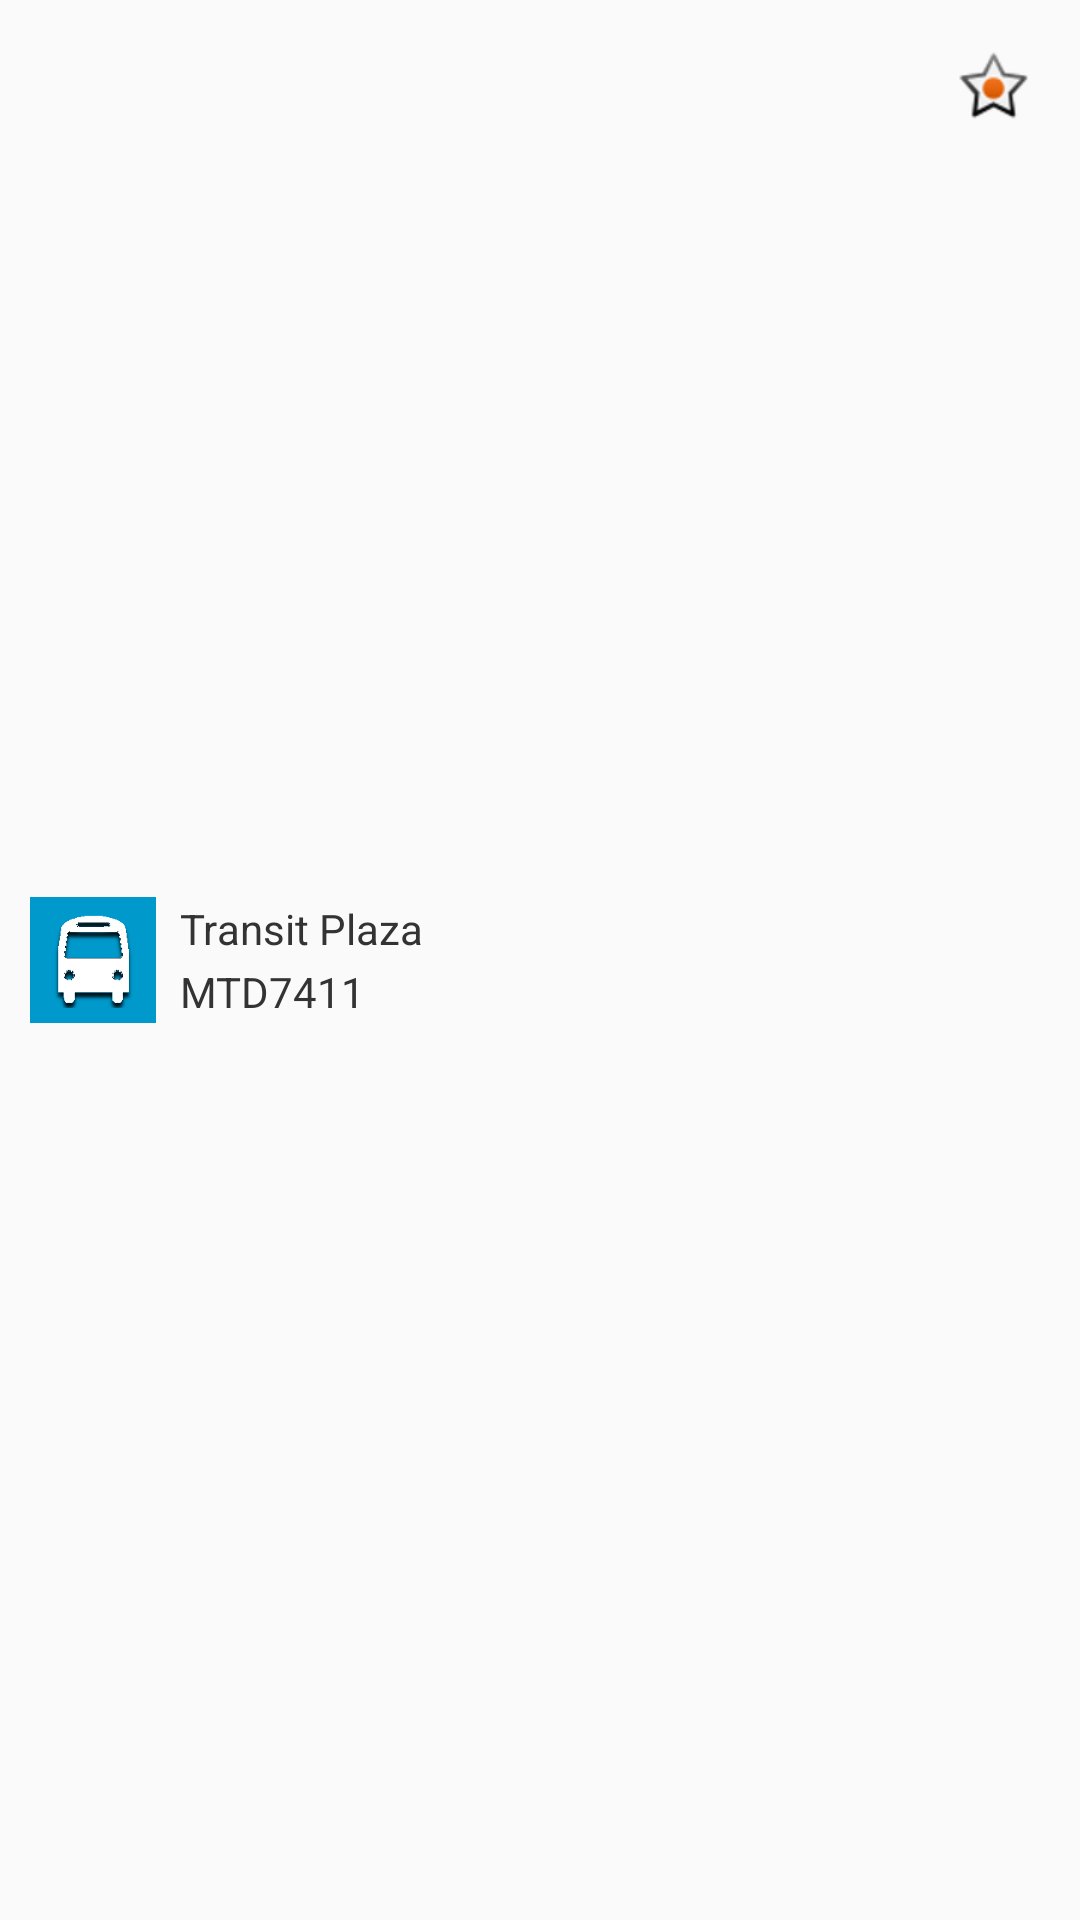

Where to tap for icons on this 1080px x 1920px app screen, as point (x, y):
bus: point (93, 960)
star on: point (993, 85)
